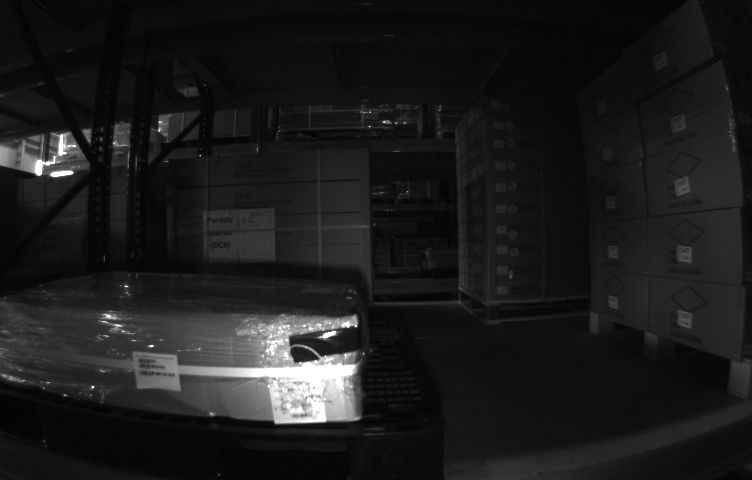True Barcode: (265, 378, 325, 423)
